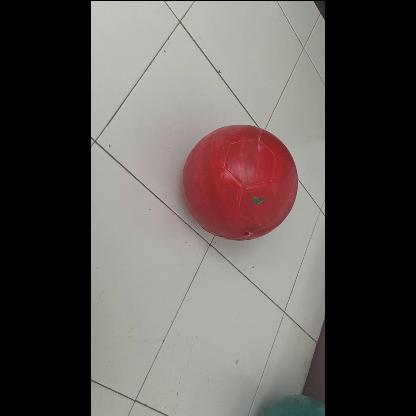red_ball: (184, 123, 300, 239)
